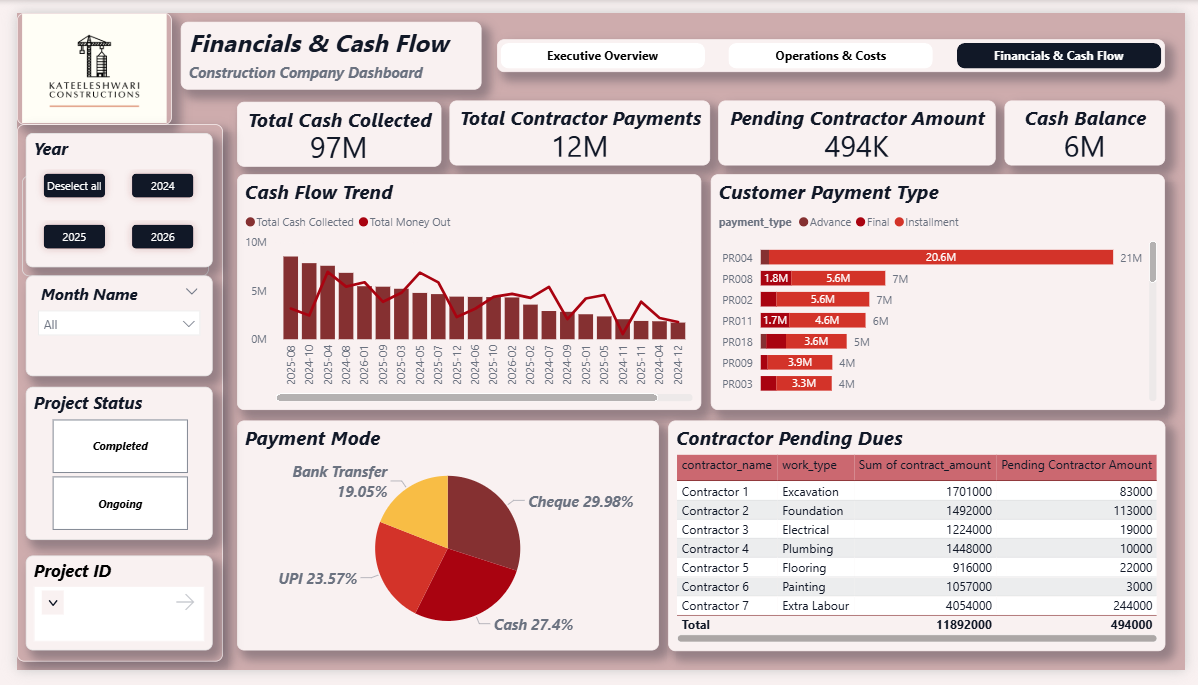

The page's visual inventory and layout, read from the dashboard file:
{"tool":"powerbi","page":{"name":"Financials & Cash Flow","canvas":[1280,720],"ordinal":2},"visuals":[{"type":"image","box":[0,0,170,122.3],"z":0},{"type":"textbox","title":"Financials & Cash Flow","box":[179.8,9.7,329.4,74.8],"z":1000},{"type":"slicer","fields":{"Values":["CalendarTable.Month Name"]},"box":[4.9,177.7,205.1,110.1],"z":2000},{"type":"shape","box":[0,121.9,225.6,588.7],"z":4000,"group":"g1"},{"type":"card","title":"Total Cash Collected","fields":{"Values":["measureTable.Total Cash Collected"]},"box":[240.9,96.6,223.8,70.9],"z":8000},{"type":"card","title":"Total Contractor Payments","fields":{"Values":["measureTable.Total contract Spend"]},"box":[473.9,96.5,285.9,71.2],"z":9000},{"type":"card","title":"Pending Contractor Amount","fields":{"Values":["measureTable.Pending Contractor Dues"]},"box":[769,96.5,304,71.2],"z":10000},{"type":"advancedSlicerVisual","fields":{"Values":["CalendarTable.Year"]},"box":[9.8,132.1,205.1,146.8],"z":10000,"group":"g1"},{"type":"card","title":"Cash Balance","fields":{"Values":["measureTable.Cash Balance"]},"box":[1082.2,96.5,176.1,71.2],"z":11000},{"type":"slicer","fields":{"Values":["CalendarTable.Month Name"]},"box":[9.8,287.8,205.1,110.1],"z":11000,"group":"g1"},{"type":"lineStackedColumnComboChart","title":"Cash Flow Trend","fields":{"Category":["CalendarTable.Year-Month"],"Y":["measureTable.Total Cash Collected"],"Y2":["measureTable.Total Money Out"]},"box":[240.9,177.3,508.7,258],"z":11001},{"type":"barChart","title":"Customer Payment Type","fields":{"Category":["projects.project_id"],"Y":["measureTable.Total Cash Collected"],"Series":["customer_payment.payment_type"]},"box":[760.6,177.3,497.7,258],"z":11002},{"type":"pieChart","title":"Payment Mode","fields":{"Category":["customer_payment.payment_mode"],"Y":["measureTable.Total Cash Collected"]},"box":[240.9,446.3,462.2,251.9],"z":11003},{"type":"tableEx","title":"Contractor Pending Dues","fields":{"Values":["contract_work.contractor_name","contract_work.work_type","Sum(contract_work.contract_amount)","measureTable.Pending Contractor Amount"]},"box":[713.6,446,544.8,252.5],"z":11004},{"type":"slicer","title":"Project Status","fields":{"Values":["projects.project_status"]},"box":[9.8,409.3,205.1,168.4],"z":12000,"group":"g1"},{"type":"textSlicer","title":"Project ID","fields":{"Values":["projects.project_id"]},"box":[9.8,594.1,205.1,103.8],"z":13000,"group":"g1"},{"type":"pageNavigator","box":[526,29,732.3,36.2],"z":13001},{"type":"group","id":"g1","title":"Group 1","box":[0,121.9,225.6,588.7],"z":13002}]}

Visuals, with their boxes in screenshot pixels (x1, y1, x2, y2), scaled from the page's 1280x720 canvas onto the 1198x685 screenshot:
image: bbox=[0, 0, 159, 116]
"Financials & Cash Flow" textbox: bbox=[168, 9, 477, 80]
slicer - CalendarTable.Month Name: bbox=[5, 169, 197, 274]
shape: bbox=[0, 116, 211, 676]
"Total Cash Collected" card: bbox=[225, 92, 435, 159]
"Total Contractor Payments" card: bbox=[444, 92, 711, 160]
"Pending Contractor Amount" card: bbox=[720, 92, 1004, 160]
advancedSlicerVisual - CalendarTable.Year: bbox=[9, 126, 201, 265]
"Cash Balance" card: bbox=[1013, 92, 1178, 160]
slicer - CalendarTable.Month Name: bbox=[9, 274, 201, 379]
"Cash Flow Trend" lineStackedColumnComboChart: bbox=[225, 169, 702, 414]
"Customer Payment Type" barChart: bbox=[712, 169, 1178, 414]
"Payment Mode" pieChart: bbox=[225, 425, 658, 664]
"Contractor Pending Dues" tableEx: bbox=[668, 424, 1178, 665]
"Project Status" slicer: bbox=[9, 389, 201, 550]
"Project ID" textSlicer: bbox=[9, 565, 201, 664]
pageNavigator: bbox=[492, 28, 1178, 62]
"Group 1" group: bbox=[0, 116, 211, 676]
